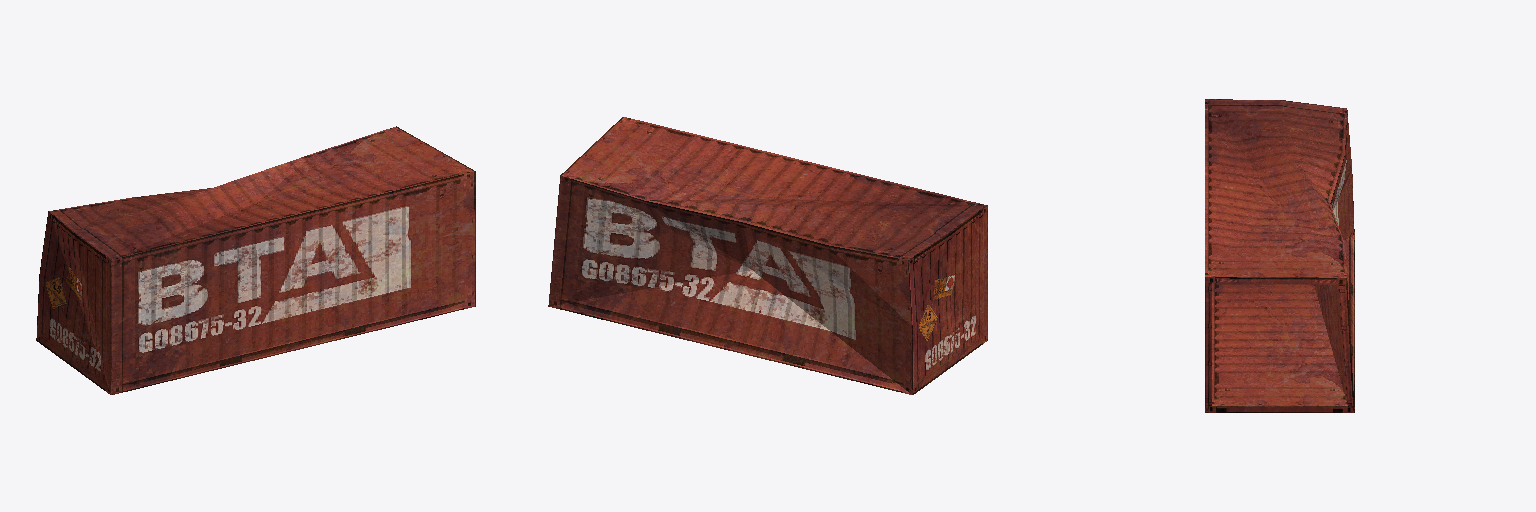
3 views of the same model, side by side, from view 1: azimuth 30°, elevation 25°; view 2: azimuth 150°, elevation 25°; view 3: azimuth 270°, elevation 25° (orthographic).
Parts seen in each view (by area): view 1: CargoB0; view 2: CargoB0; view 3: CargoB0.
Boxes of the visible parts, <box> form: CargoB0: <box>36,126,475,394</box>; CargoB0: <box>548,117,987,394</box>; CargoB0: <box>1205,99,1354,412</box>.
Bounding box in the file's own units: 6.2 × 2.2 × 2.2.
1 materials, 1 textured.